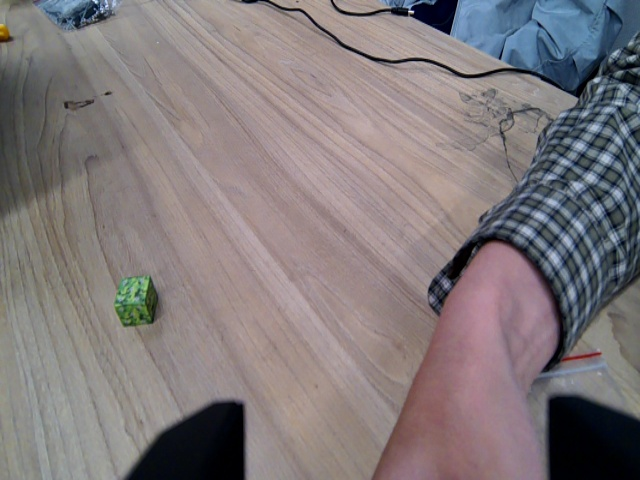grass: (111, 276, 158, 328)
